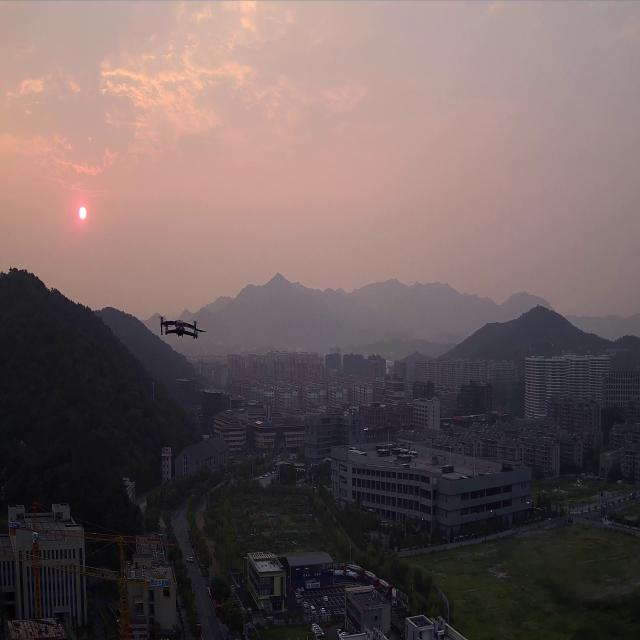UAV: (158, 314, 205, 342)
